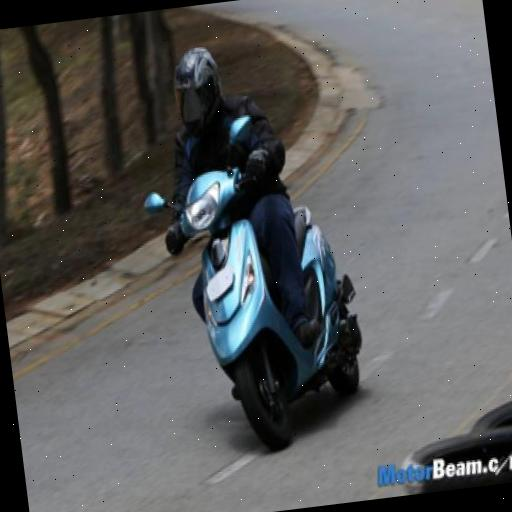helmet: (127, 16, 365, 442)
